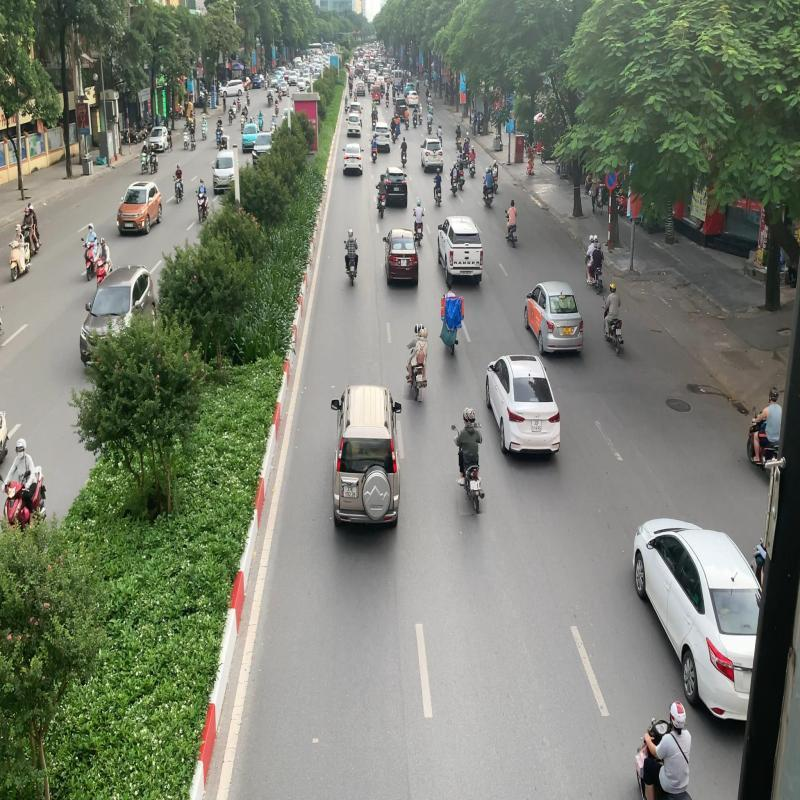helmet: (466, 408, 476, 423), (610, 283, 616, 293), (414, 324, 420, 333), (418, 328, 424, 337)
licenseplate: (470, 479, 478, 490), (418, 374, 424, 382), (616, 330, 622, 336)
motorcyclist: (452, 404, 485, 514), (405, 322, 429, 402), (602, 284, 624, 356), (584, 234, 606, 294)
nohelmet: (593, 235, 598, 243), (597, 243, 602, 250)
